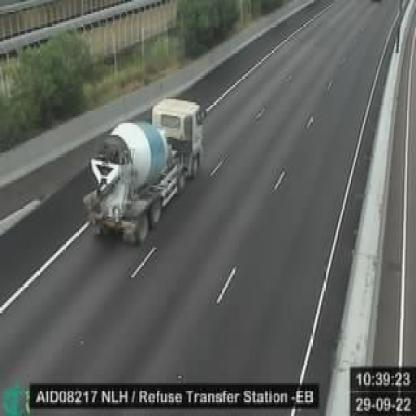Truck: (86, 97, 204, 244)
